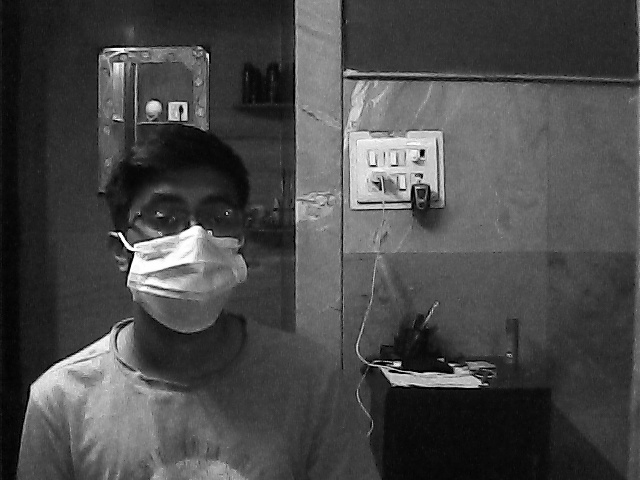mask: (123, 195, 256, 343)
